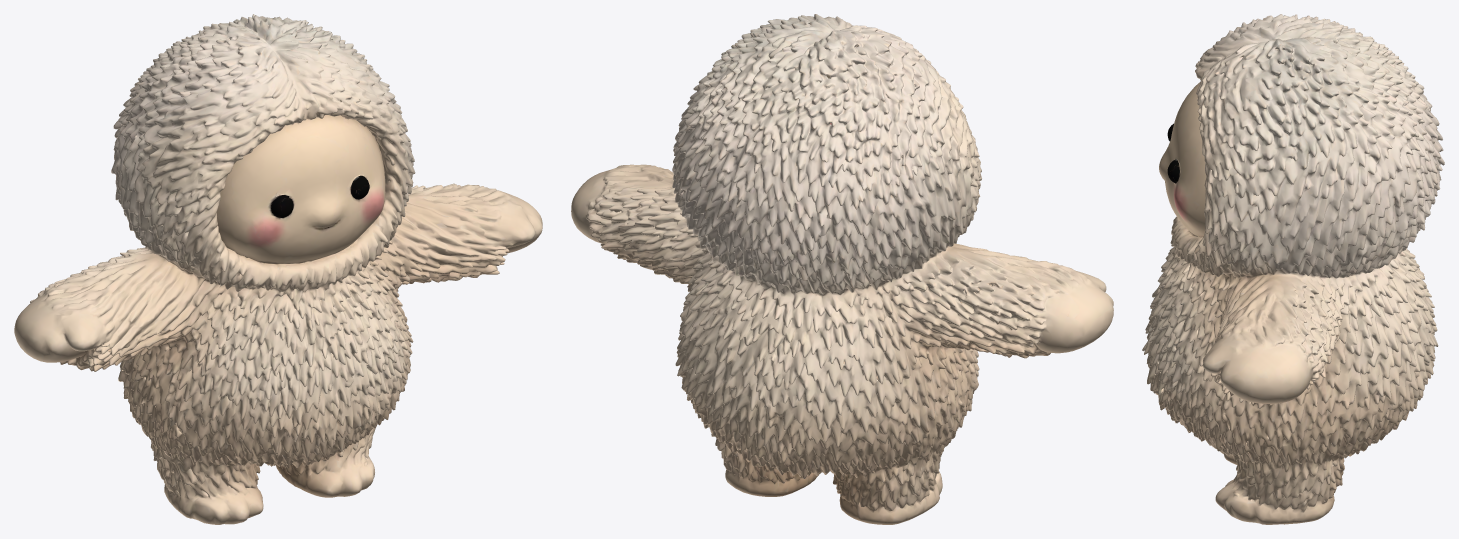
Rendered from muse-san-1024-seed42.glb.
The picture shows the model from 3 angles, left to right: view 1: azimuth 30°, elevation 25°; view 2: azimuth 150°, elevation 25°; view 3: azimuth 270°, elevation 25°; orthographic projection. The views are drawn at different scales.
Size of the model in its own units: 1 by 0.8521 by 0.5176.
Materials: 1 (1 with a texture image).
